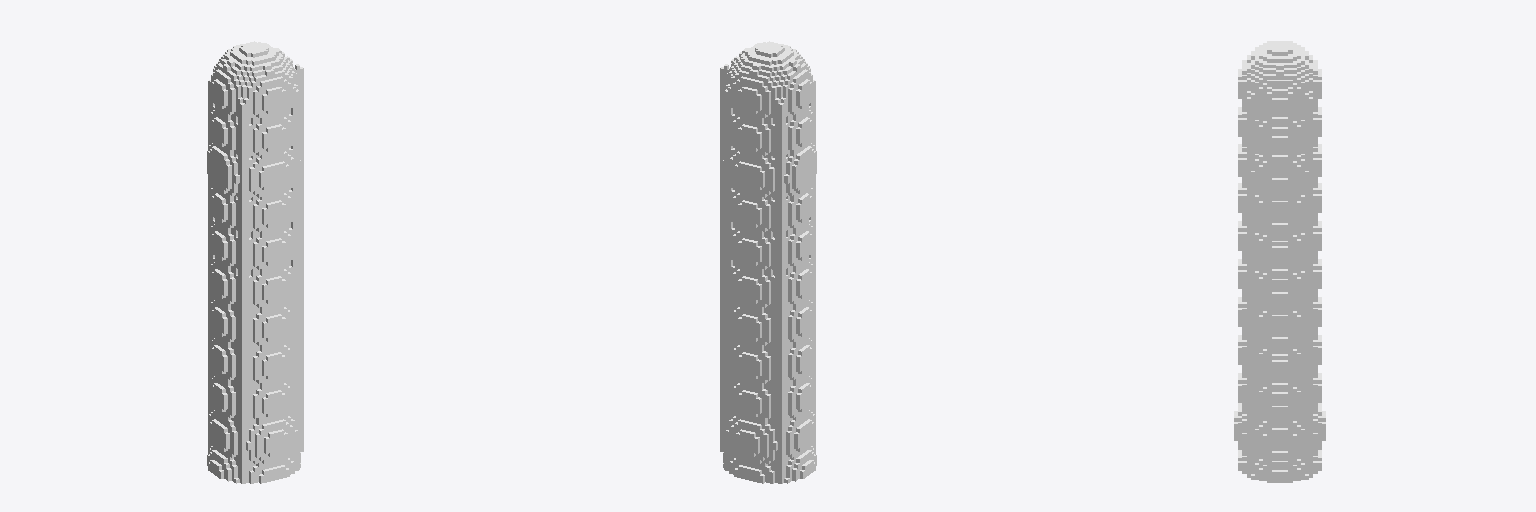
File: Silo.obj
The picture shows the model from 3 angles: view 1: azimuth 30°, elevation 25°; view 2: azimuth 150°, elevation 25°; view 3: azimuth 270°, elevation 25°; orthographic projection.
Parts seen in each view (by area): view 1: object 1; view 2: object 1; view 3: object 1.
Part boxes in pixels (left/top/right/bottom): object 1: left=207, top=41, right=303, bottom=483; object 1: left=720, top=41, right=816, bottom=483; object 1: left=1234, top=41, right=1325, bottom=482.
Size of the model in its own units: 2.3 by 11 by 2.2.